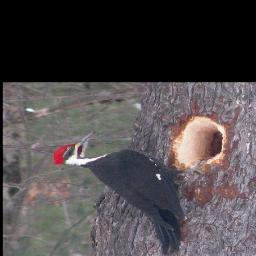Woodpecker: (49, 133, 214, 256)
